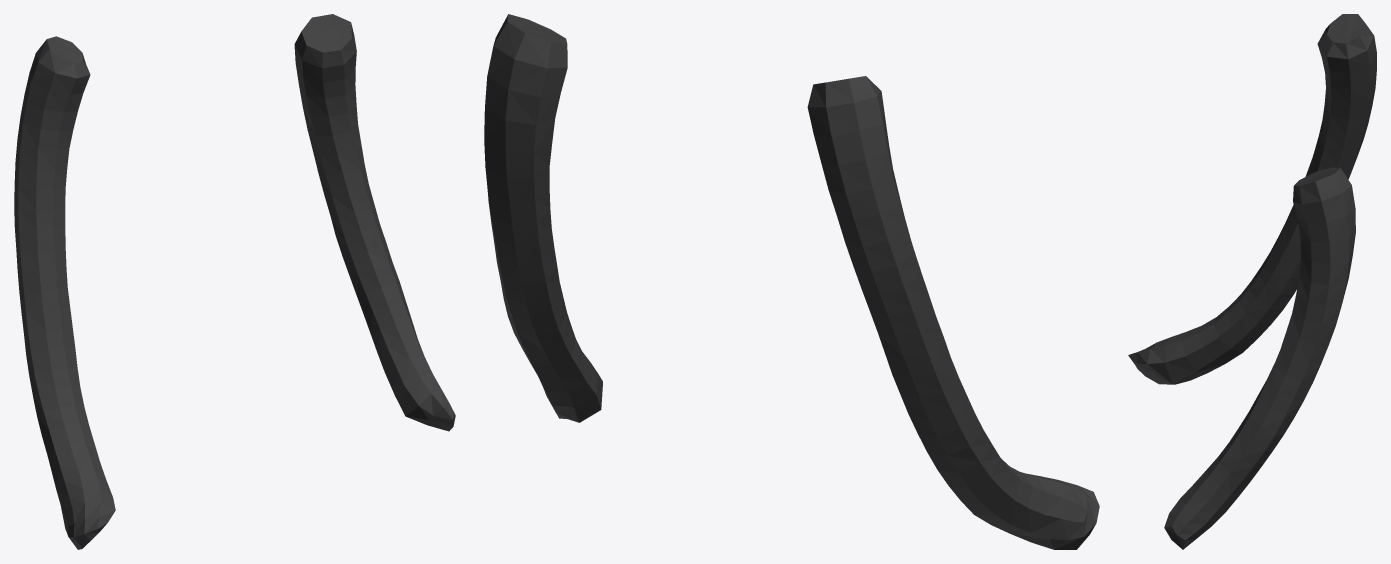
File: Abaxial_ligaments.glb
3 views of the same model, side by side, from view 1: azimuth 30°, elevation 25°; view 2: azimuth 150°, elevation 25°; view 3: azimuth 270°, elevation 25° (orthographic). The views are drawn at different scales.
Visible parts, largest first — view 1: Abaxial_ligaments; view 2: Abaxial_ligaments; view 3: Abaxial_ligaments.
Part boxes in pixels (left/top/right/bottom): Abaxial_ligaments: left=14, top=14, right=455, bottom=549; Abaxial_ligaments: left=484, top=14, right=1099, bottom=549; Abaxial_ligaments: left=1128, top=14, right=1376, bottom=549.
Bounding box in the file's own units: 9.17 × 9.24 × 5.16.
Materials: 1 (1 with a texture image).
